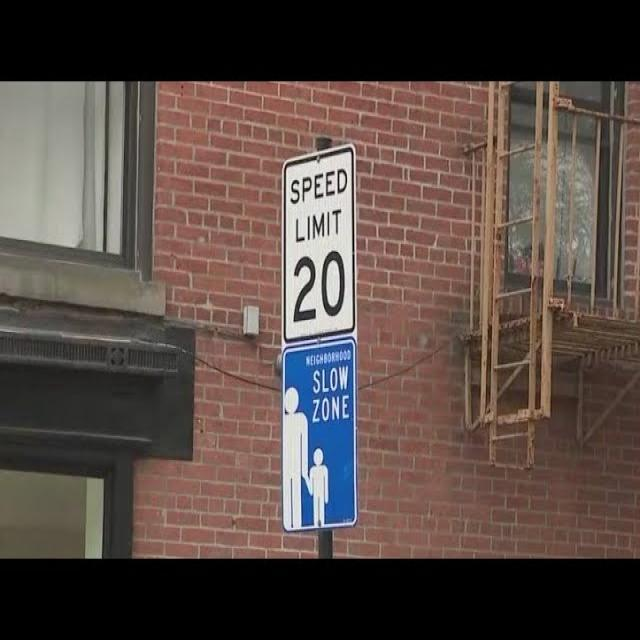Speed Limit Signs: (279, 144, 360, 338)
